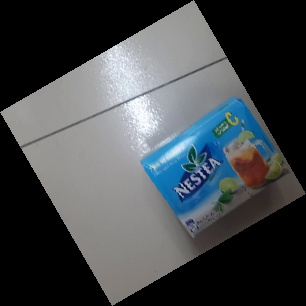Nestea: (141, 97, 289, 238)
